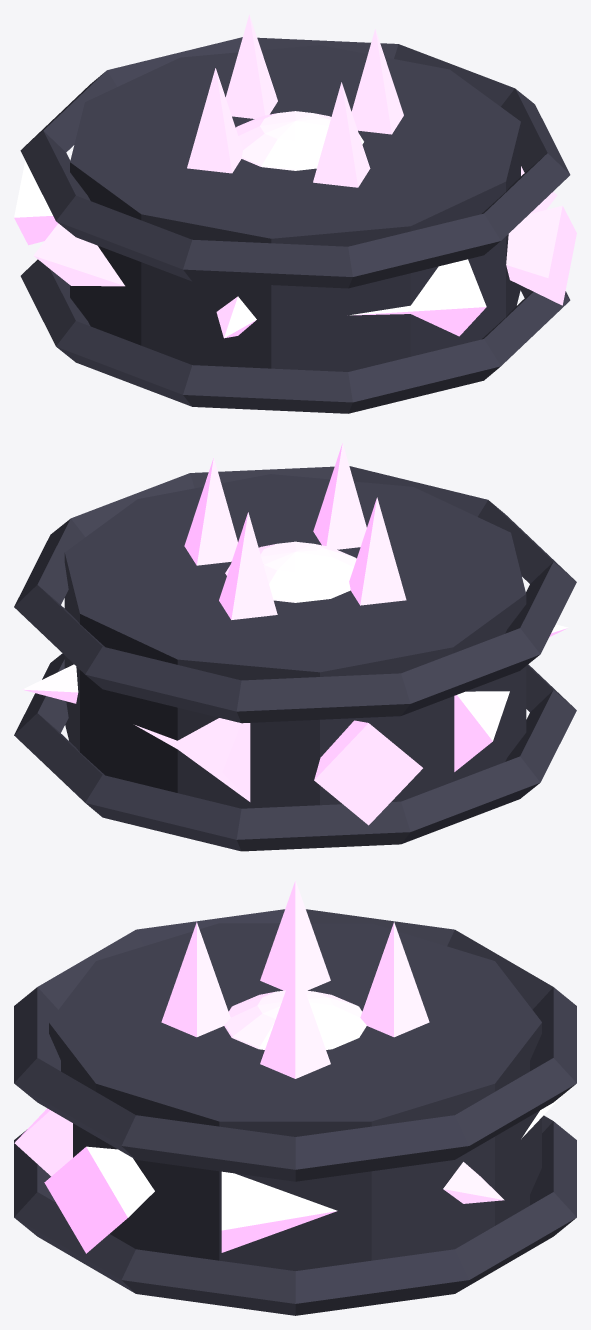
The model's file is enemy_boss.glb.
The picture shows the model from 3 angles, top to bottom: view 1: azimuth 30°, elevation 25°; view 2: azimuth 150°, elevation 25°; view 3: azimuth 270°, elevation 25°; orthographic projection. The views are drawn at different scales.
Visible parts, largest first — view 1: enemy_boss; view 2: enemy_boss; view 3: enemy_boss.
Boxes of the visible parts, x1=… form: enemy_boss: x1=14, y1=14, x2=576, y2=413; enemy_boss: x1=14, y1=443, x2=576, y2=851; enemy_boss: x1=14, y1=880, x2=576, y2=1315.
Size of the model in its own units: 1.2 by 0.675 by 1.14.
